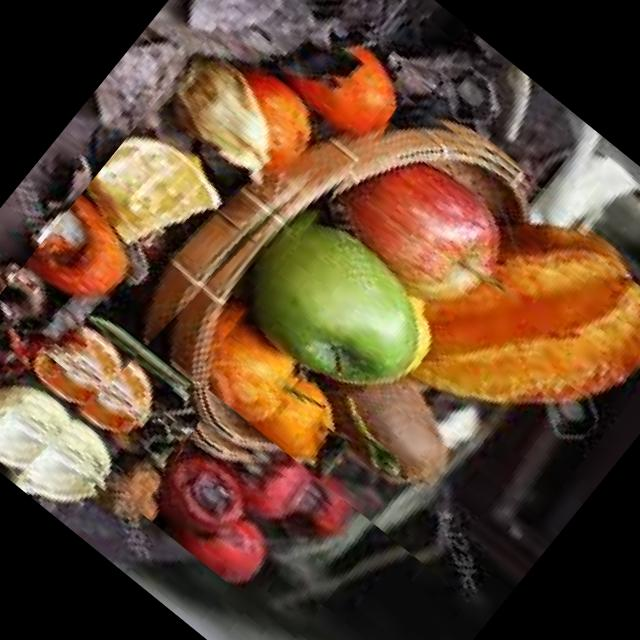Organic: (183, 85, 640, 592), (0, 0, 398, 509), (130, 403, 378, 638)
